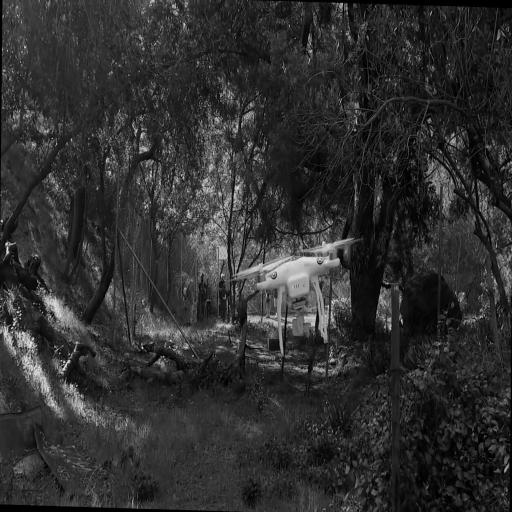drone: (229, 236, 364, 357)
